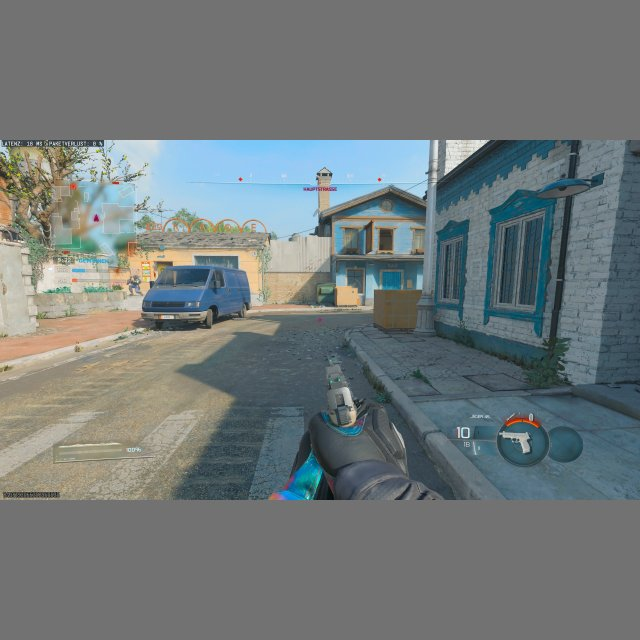player: (127, 274, 142, 297)
